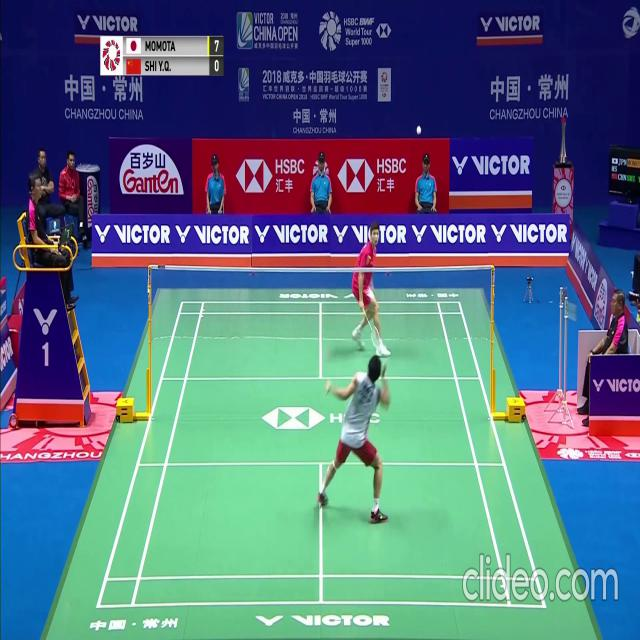Shuttlecock: (417, 127, 421, 135)
